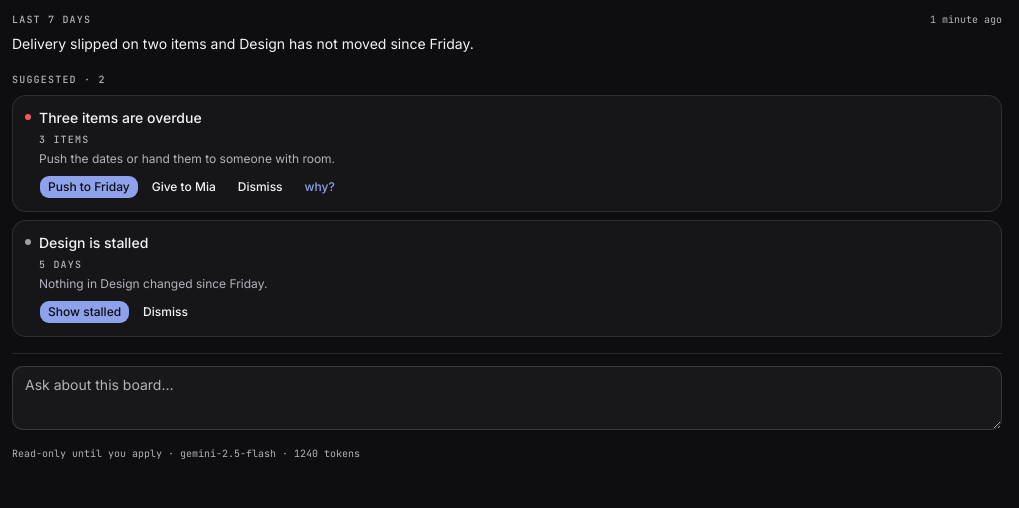
IntelligenceTab — the suggestions › says when a suggestion could not be applied
Step 1. Click the button "Push to Friday" → point(89, 187), box [39,175,139,199]
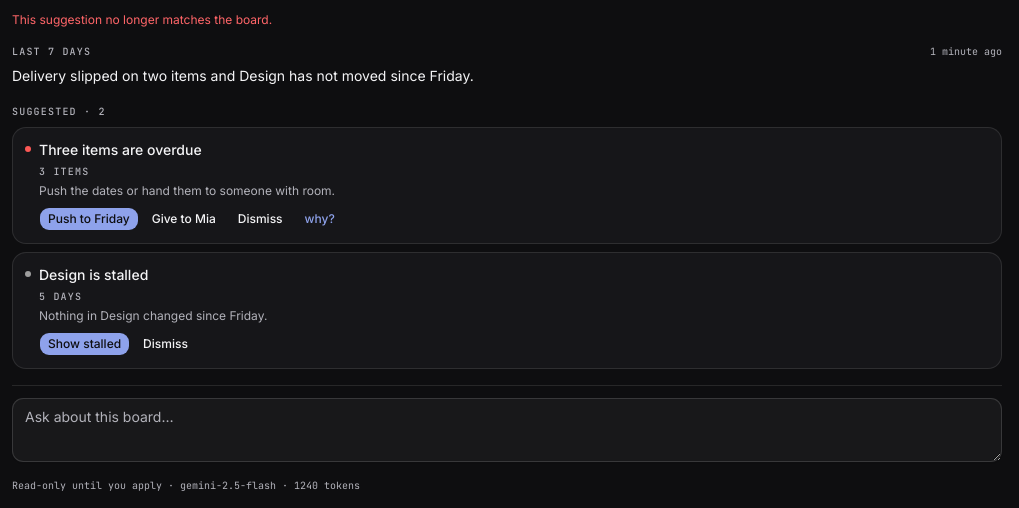
Expected: the text "This suggestion no longer matches the board." is shown, [12,12,272,27]
